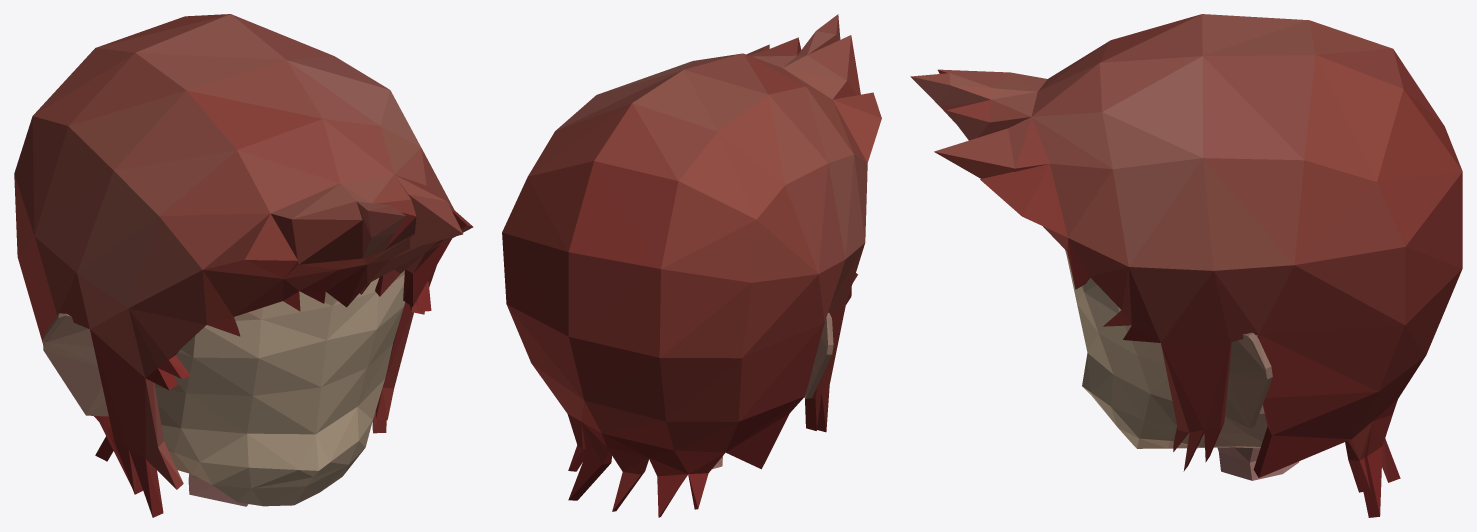
File: helm_lightskin_standard_red.fbx
3 renders of one model, left to right at view 1: azimuth 30°, elevation 25°; view 2: azimuth 150°, elevation 25°; view 3: azimuth 270°, elevation 25°, orthographic. The views are drawn at different scales.
Parts seen in each view (by area): view 1: helm_lightskin_standard_red; view 2: helm_lightskin_standard_red; view 3: helm_lightskin_standard_red.
Part boxes in pixels (left/top/right/bottom): helm_lightskin_standard_red: left=14, top=14, right=473, bottom=517; helm_lightskin_standard_red: left=502, top=14, right=881, bottom=517; helm_lightskin_standard_red: left=910, top=14, right=1462, bottom=517.
Size of the model in its own units: 1.13 by 1.38 by 1.55.
